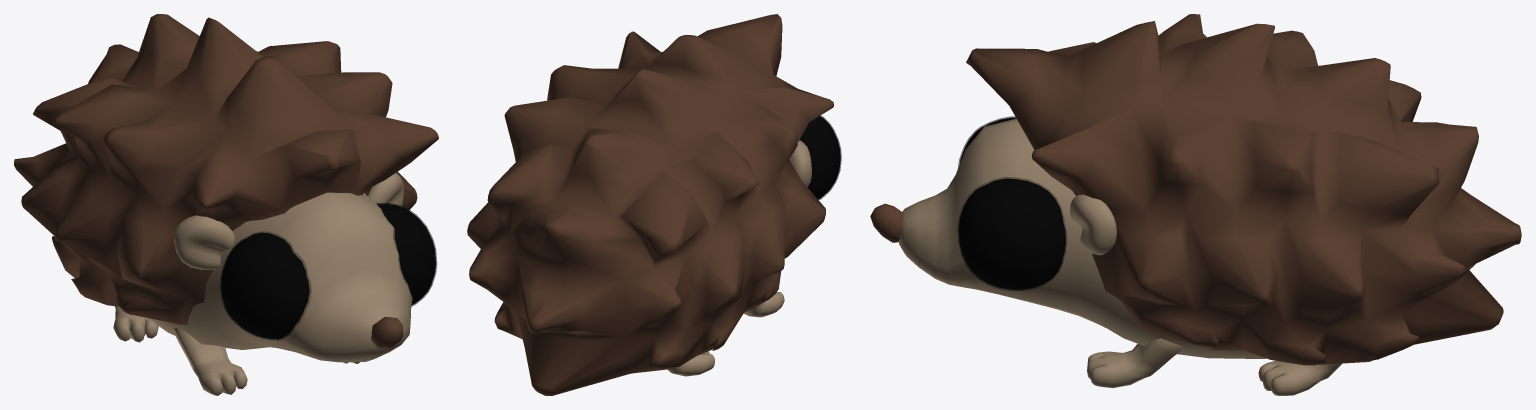
Rendered from Hedgehog_low.fbx.
3 views of the same model, side by side, from view 1: azimuth 30°, elevation 25°; view 2: azimuth 150°, elevation 25°; view 3: azimuth 270°, elevation 25° (orthographic). The views are drawn at different scales.
Visible parts, largest first — view 1: HedgehogFur_low, Hedgehog_low, HedgehogEyesOuter_low, HedgehogEyesInner_low, HedhehogEars_low, HedhehogFeetFront_low, HedhehogFeetBack_low, HedhehogNose_low; view 2: HedgehogFur_low, HedgehogEyesOuter_low, HedgehogEyesInner_low, HedhehogFeetBack_low, HedhehogEars_low, HedhehogFeetFront_low; view 3: HedgehogFur_low, Hedgehog_low, HedgehogEyesOuter_low, HedgehogEyesInner_low, HedhehogFeetFront_low, HedhehogEars_low, HedhehogFeetBack_low, HedhehogNose_low.
Part boxes in pixels (<box>): HedgehogFur_low: <box>14,14,438,324</box>; Hedgehog_low: <box>147,192,412,362</box>; HedgehogEyesOuter_low: <box>220,203,437,340</box>; HedgehogEyesInner_low: <box>221,204,435,339</box>; HedhehogEars_low: <box>174,173,404,269</box>; HedhehogFeetFront_low: <box>172,327,359,395</box>; HedhehogFeetBack_low: <box>113,306,158,342</box>; HedhehogNose_low: <box>371,317,403,349</box>; HedgehogFur_low: <box>467,14,833,395</box>; HedgehogEyesOuter_low: <box>800,115,841,199</box>; HedgehogEyesInner_low: <box>799,116,840,199</box>; HedhehogFeetBack_low: <box>667,351,714,376</box>; HedhehogEars_low: <box>789,140,811,187</box>; HedhehogFeetFront_low: <box>743,292,784,317</box>; HedgehogFur_low: <box>966,14,1521,365</box>; Hedgehog_low: <box>898,118,1266,358</box>; HedgehogEyesOuter_low: <box>957,116,1066,290</box>; HedgehogEyesInner_low: <box>958,117,1065,289</box>; HedhehogFeetFront_low: <box>1087,338,1184,388</box>; HedhehogEars_low: <box>1070,194,1116,255</box>; HedhehogFeetBack_low: <box>1258,360,1341,395</box>; HedhehogNose_low: <box>870,203,903,242</box>.
Bounding box in the file's own units: 1.34 × 1.25 × 2.23.
